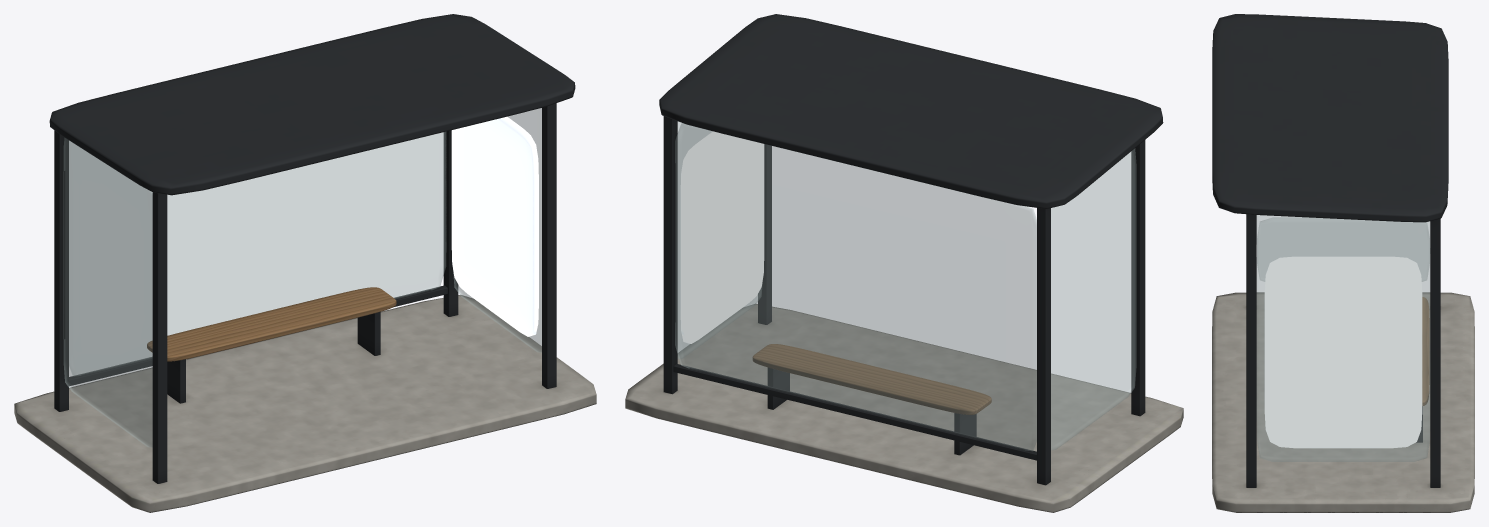
File: graphite.glb
The picture shows the model from 3 angles, left to right: view 1: azimuth 30°, elevation 25°; view 2: azimuth 150°, elevation 25°; view 3: azimuth 270°, elevation 25°; orthographic projection. The views are drawn at different scales.
Parts seen in each view (by area): view 1: paint_primary_frame, concrete, glass_panel, ad_light, wood_x; view 2: glass_panel, paint_primary_frame, concrete, ad_light, wood_x; view 3: paint_primary_frame, glass_panel, ad_light, concrete, wood_x.
Part boxes in pixels (x1,y1,x2,y2): paint_primary_frame: [49, 14, 575, 483]; concrete: [14, 295, 596, 512]; glass_panel: [63, 108, 541, 447]; ad_light: [451, 116, 538, 336]; wood_x: [147, 287, 396, 361]; glass_panel: [675, 121, 1136, 450]; paint_primary_frame: [659, 14, 1163, 485]; concrete: [625, 304, 1183, 512]; ad_light: [680, 131, 764, 343]; wood_x: [752, 344, 991, 414]; paint_primary_frame: [1212, 14, 1448, 487]; glass_panel: [1257, 215, 1430, 461]; ad_light: [1264, 256, 1422, 448]; concrete: [1212, 292, 1474, 512]; wood_x: [1422, 297, 1429, 405].
Bounding box in the file's own units: 3.8 × 2.52 × 2.
Materials: 5 (3 with a texture image).
